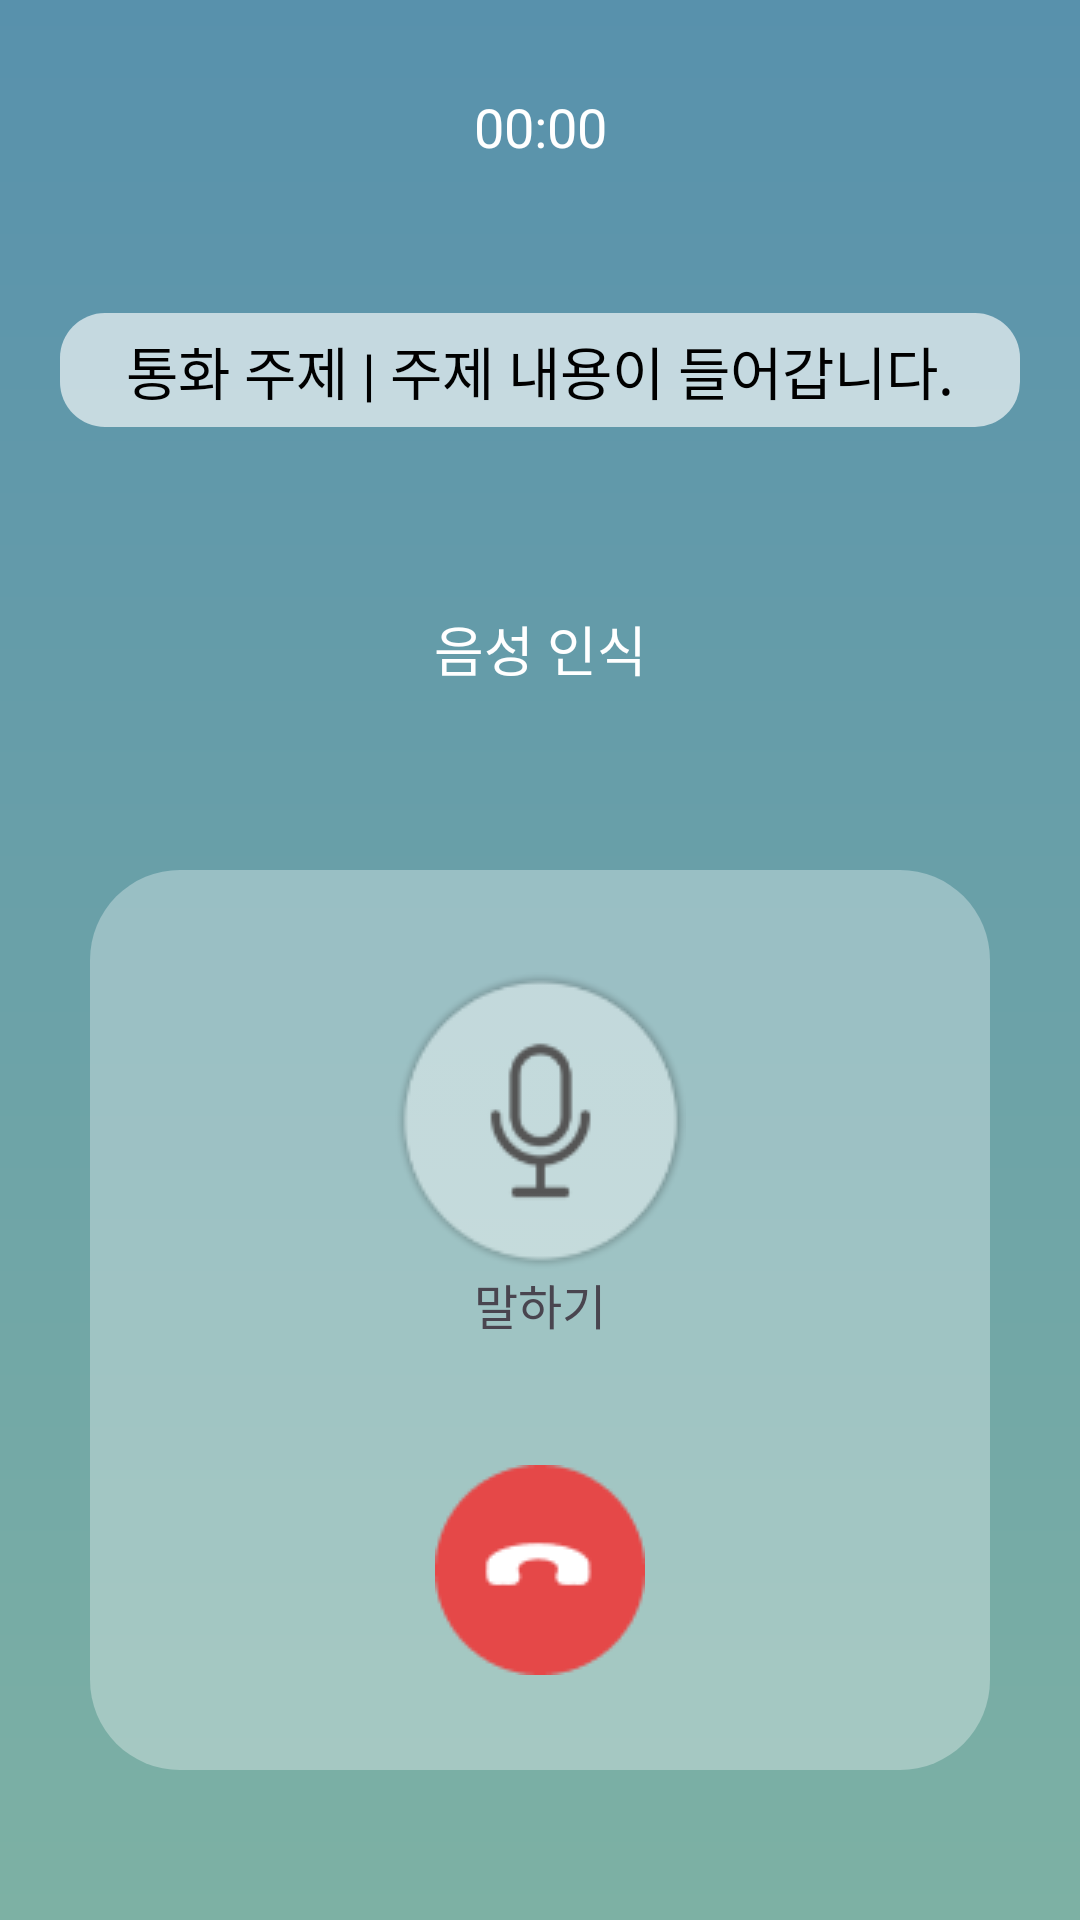

Icons on this 1080x1920 Android screen, each with the point to tap as (x,y):
stopcall: (540,1570)
